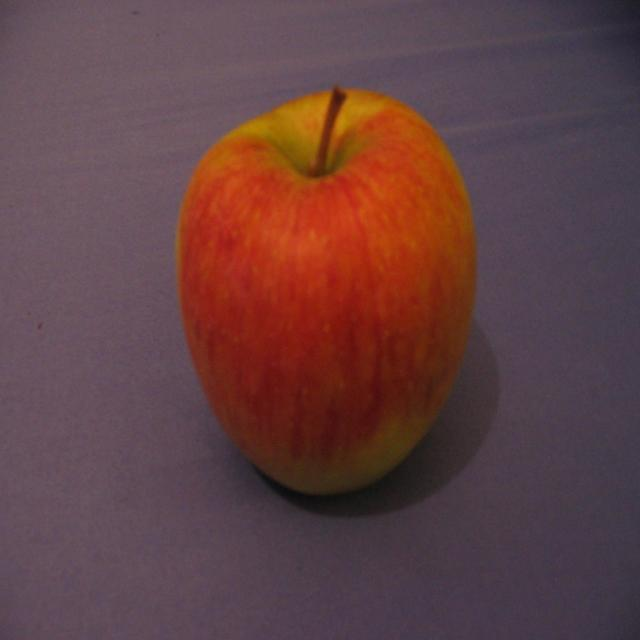Apple: (173, 94, 472, 510)
